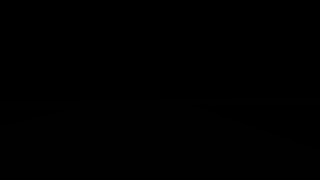turn_left: (193, 51, 212, 71)
